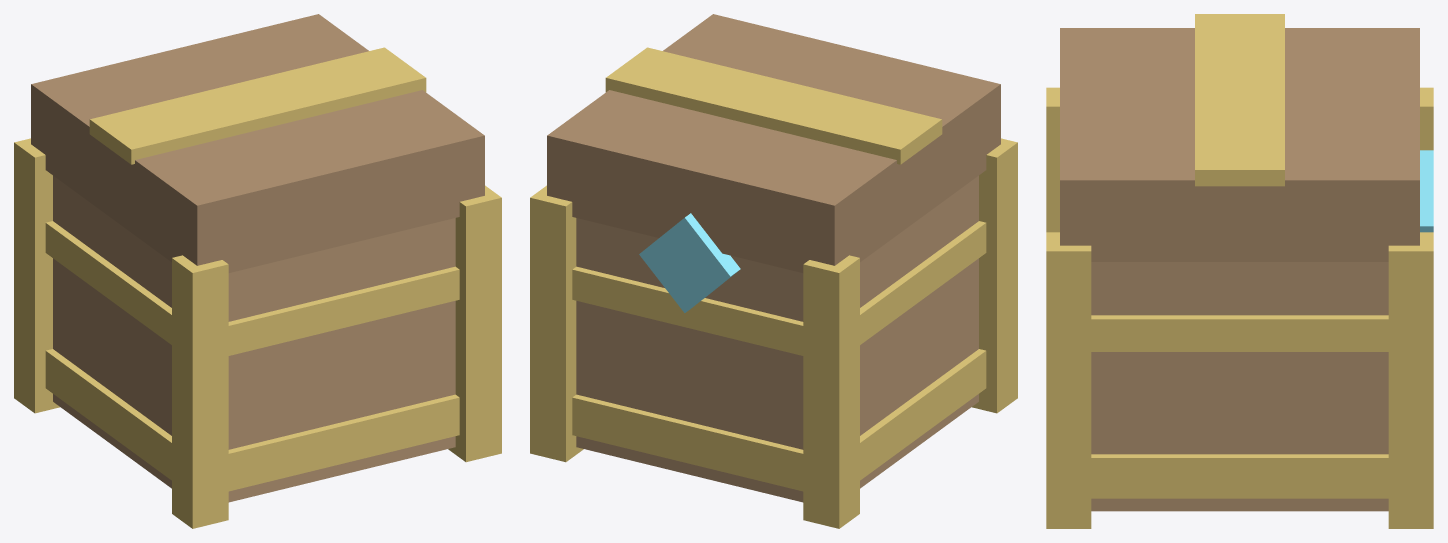
The model's file is ElementCrate.fbx.
The picture shows the model from 3 angles, left to right: view 1: azimuth 30°, elevation 25°; view 2: azimuth 150°, elevation 25°; view 3: azimuth 270°, elevation 25°; orthographic projection. The views are drawn at different scales.
Parts seen in each view (by area): view 1: Crate_Lid, Crate_Body, Crate_Trim.006, Crate_Trim, Crate_Trim.003, Crate_Trim.001, Crate_Trim.005, Crate_Trim.002; view 2: Crate_Lid, Crate_Body, Crate_Trim.006, Crate_Trim, Crate_Trim.002, Crate_Trim.001, Crate_Trim.004, Crate_Trim.003, Crate_Gem; view 3: Crate_Lid, Crate_Body, Crate_Trim.006, Crate_Trim, Crate_Trim.004, Crate_Trim.005, Crate_Trim.001, Crate_Trim.003, Crate_Gem, Crate_Trim.002.
Part boxes in pixels (left/top/right/bottom): Crate_Lid: left=31, top=14, right=484, bottom=272; Crate_Body: left=53, top=175, right=455, bottom=502; Crate_Trim.006: left=89, top=47, right=426, bottom=164; Crate_Trim: left=45, top=349, right=459, bottom=491; Crate_Trim.003: left=172, top=255, right=228, bottom=528; Crate_Trim.001: left=45, top=221, right=459, bottom=355; Crate_Trim.005: left=448, top=185, right=501, bottom=462; Crate_Trim.002: left=14, top=138, right=59, bottom=413; Crate_Lid: left=547, top=14, right=1000, bottom=272; Crate_Body: left=576, top=175, right=978, bottom=502; Crate_Trim.006: left=605, top=47, right=942, bottom=164; Crate_Trim: left=572, top=349, right=986, bottom=491; Crate_Trim.002: left=803, top=255, right=859, bottom=528; Crate_Trim.001: left=572, top=221, right=986, bottom=355; Crate_Trim.004: left=530, top=185, right=583, bottom=462; Crate_Trim.003: left=972, top=138, right=1017, bottom=413; Crate_Gem: left=639, top=213, right=740, bottom=312; Crate_Lid: left=1060, top=28, right=1419, bottom=261; Crate_Body: left=1091, top=262, right=1388, bottom=511; Crate_Trim.006: left=1195, top=14, right=1284, bottom=186; Crate_Trim: left=1091, top=454, right=1388, bottom=498; Crate_Trim.004: left=1388, top=232, right=1433, bottom=528; Crate_Trim.005: left=1046, top=232, right=1091, bottom=528; Crate_Trim.001: left=1091, top=315, right=1388, bottom=351; Crate_Trim.003: left=1046, top=87, right=1059, bottom=232; Crate_Gem: left=1420, top=150, right=1433, bottom=232; Crate_Trim.002: left=1420, top=87, right=1433, bottom=150.
Size of the model in its own units: 120 by 122 by 120.
